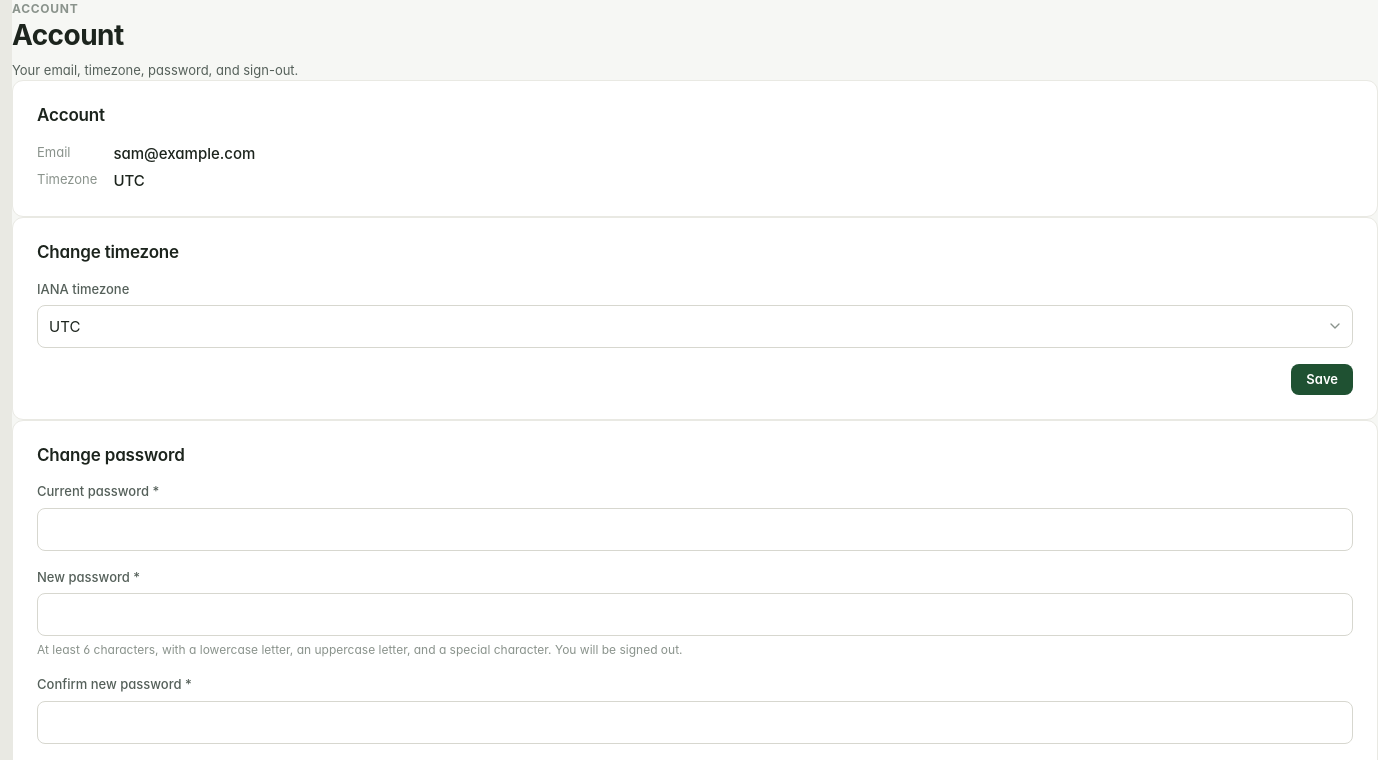
Scenario: Account › surfaces the Q6 server policy error on the new-password field
Type "Oldpass!1" into the password field named "Current password *(required)" at (695, 529), box [37,508,1353,551]
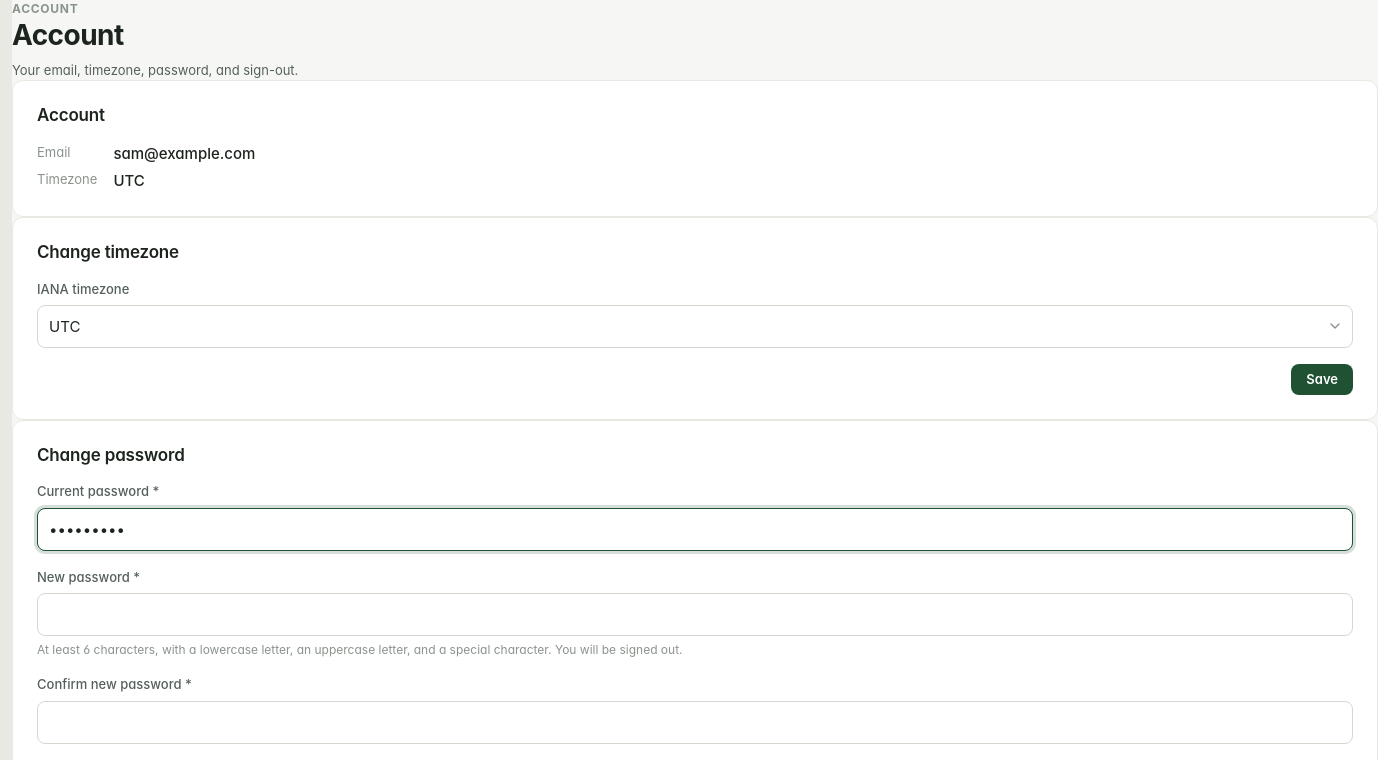
Type "weak" into the password field named "New password *(required)" at (695, 615), box [37,593,1353,636]
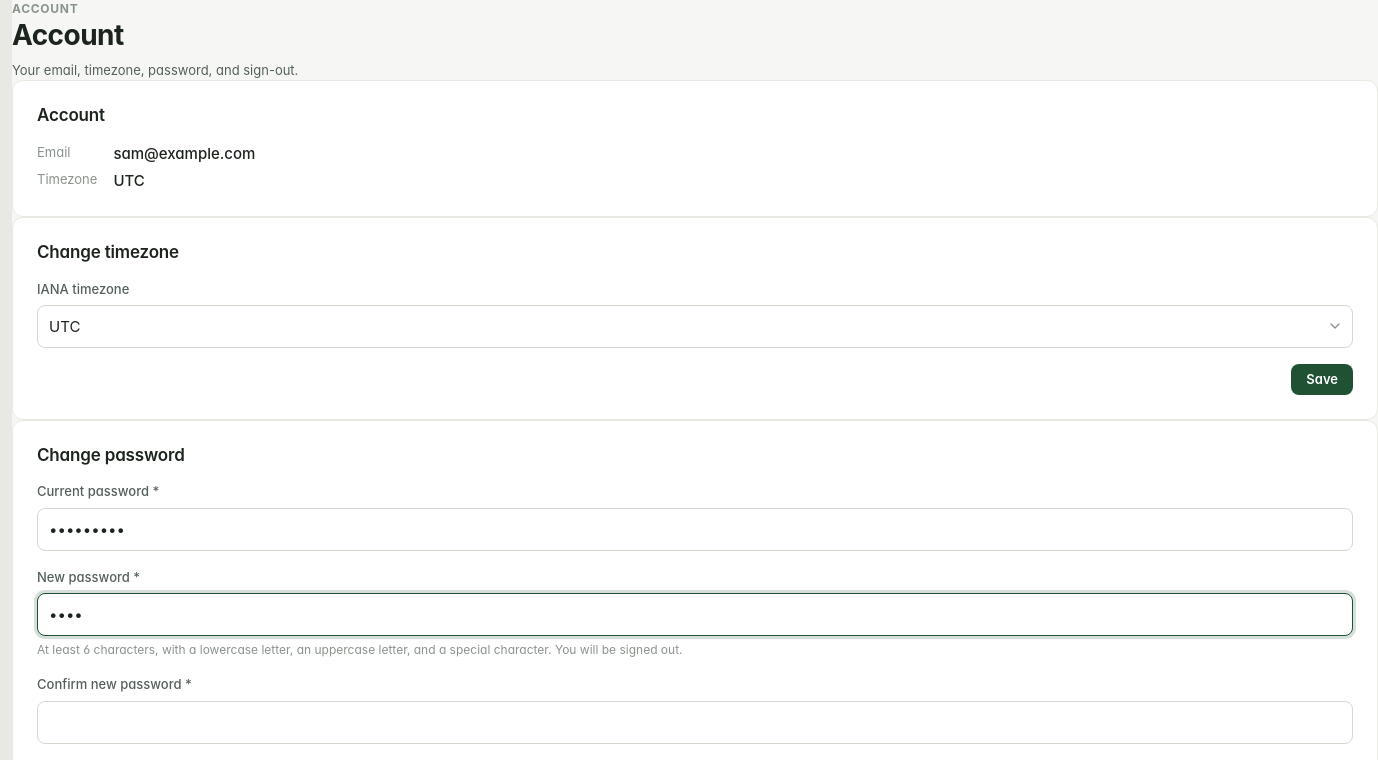
Type "weak" into the password field named "Confirm new password *(required)" at (695, 722), box [37,700,1353,744]
(page scrolled)
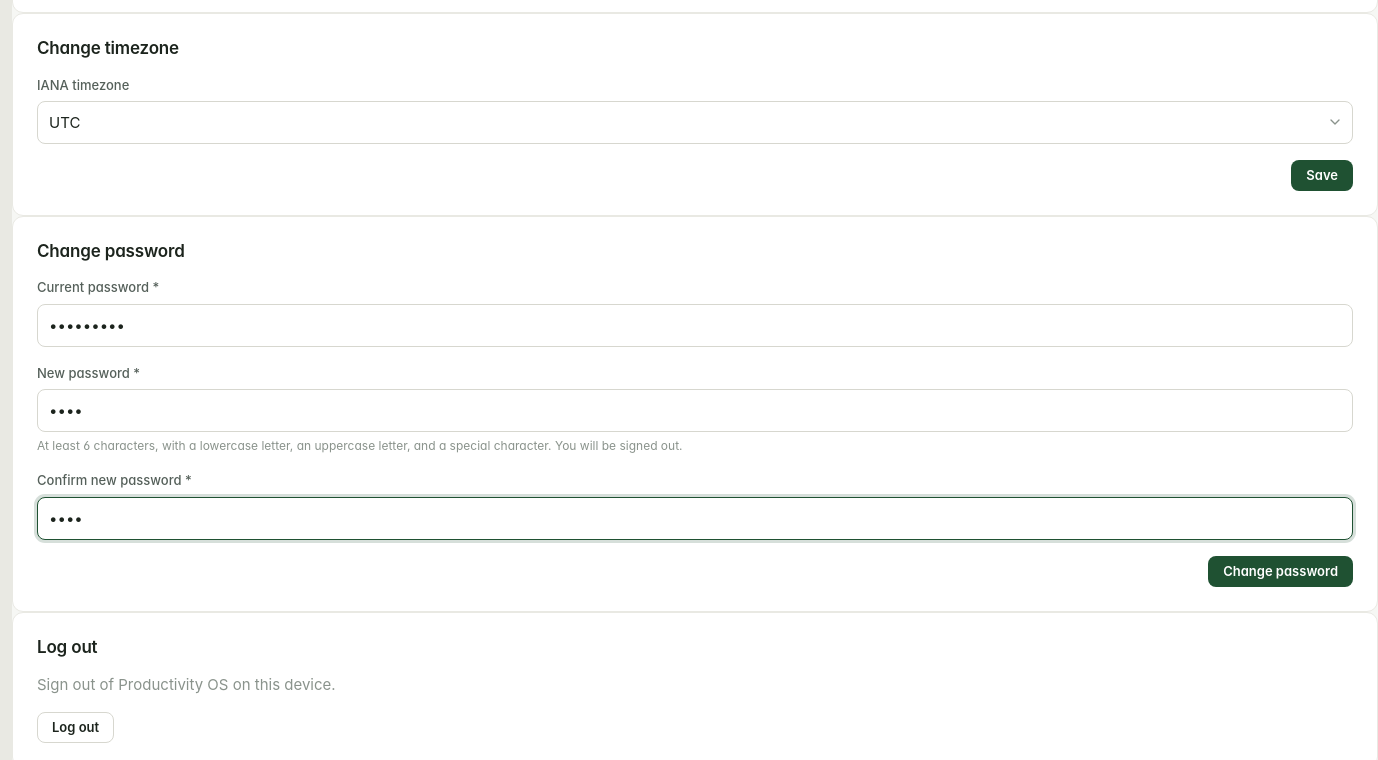
Click the button "Change password" at (1281, 571), box [1208,556,1353,587]
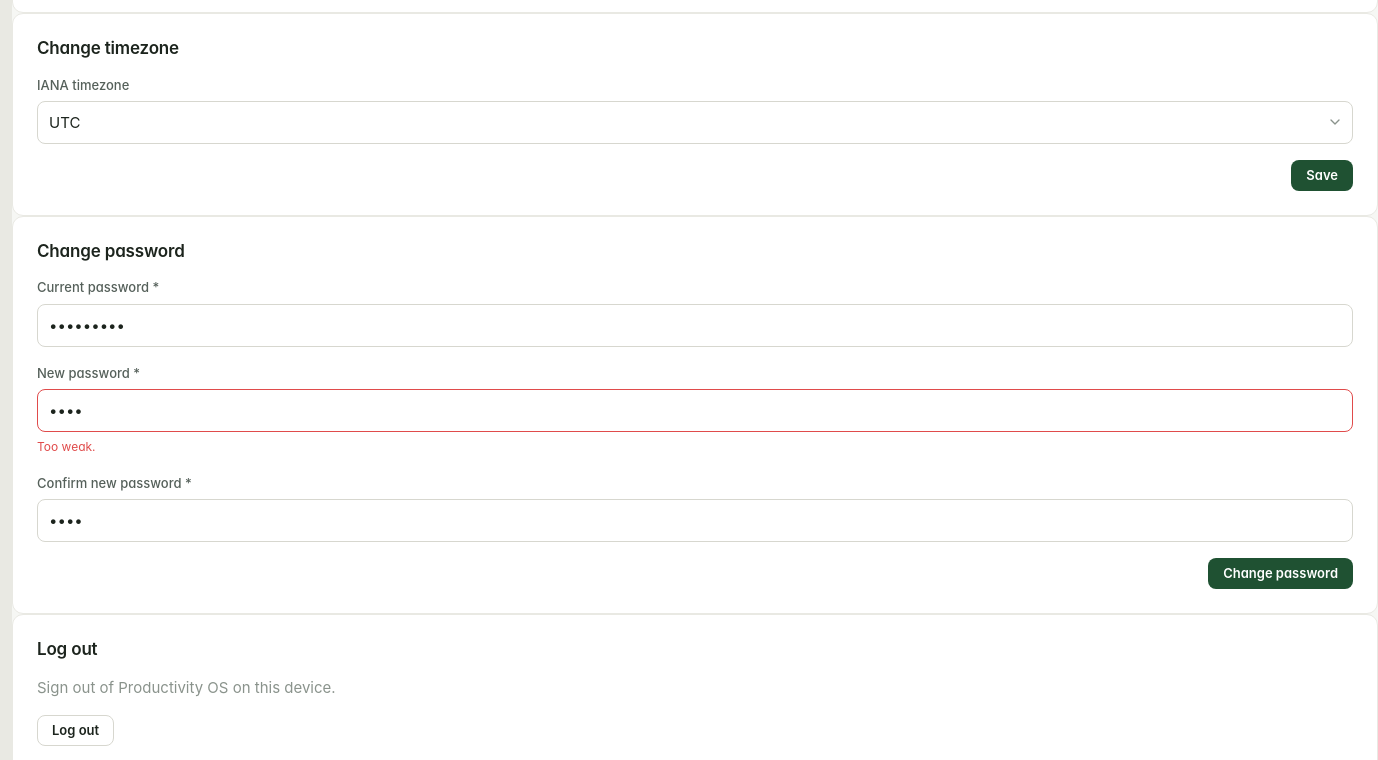
Result: the text "Too weak." is shown at [37,439,96,454]
